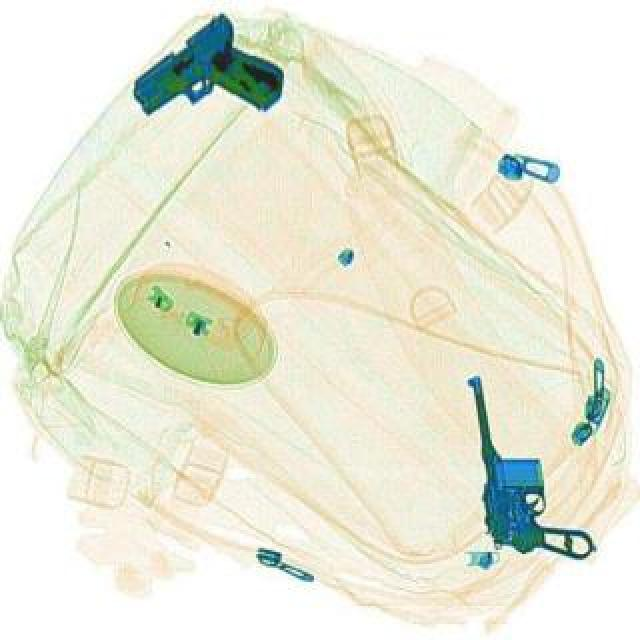gun: (118, 6, 294, 162), (462, 362, 594, 566)
